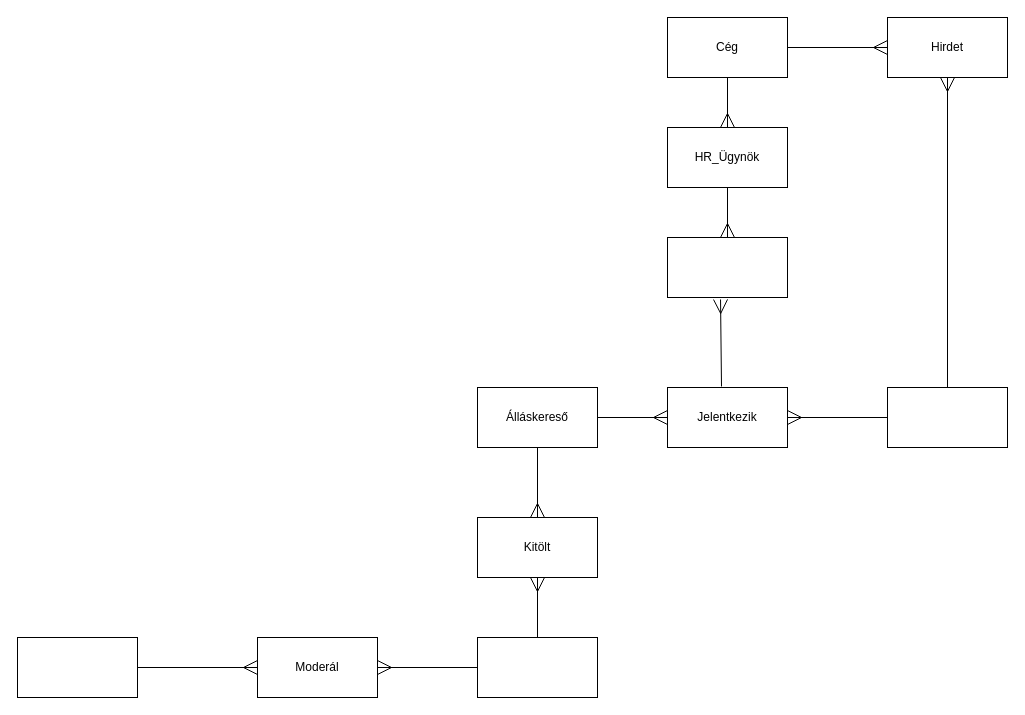
This 1025x715 diagram has some shape labels left out. Each missing label, with the box of its shape:
Adatlap: (476, 636, 598, 698)
Admin: (16, 636, 138, 698)
Felkeres: (666, 236, 788, 298)
Állás: (886, 386, 1008, 448)
